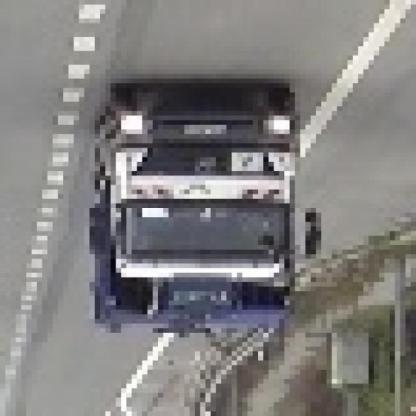truck: (85, 89, 317, 343)
